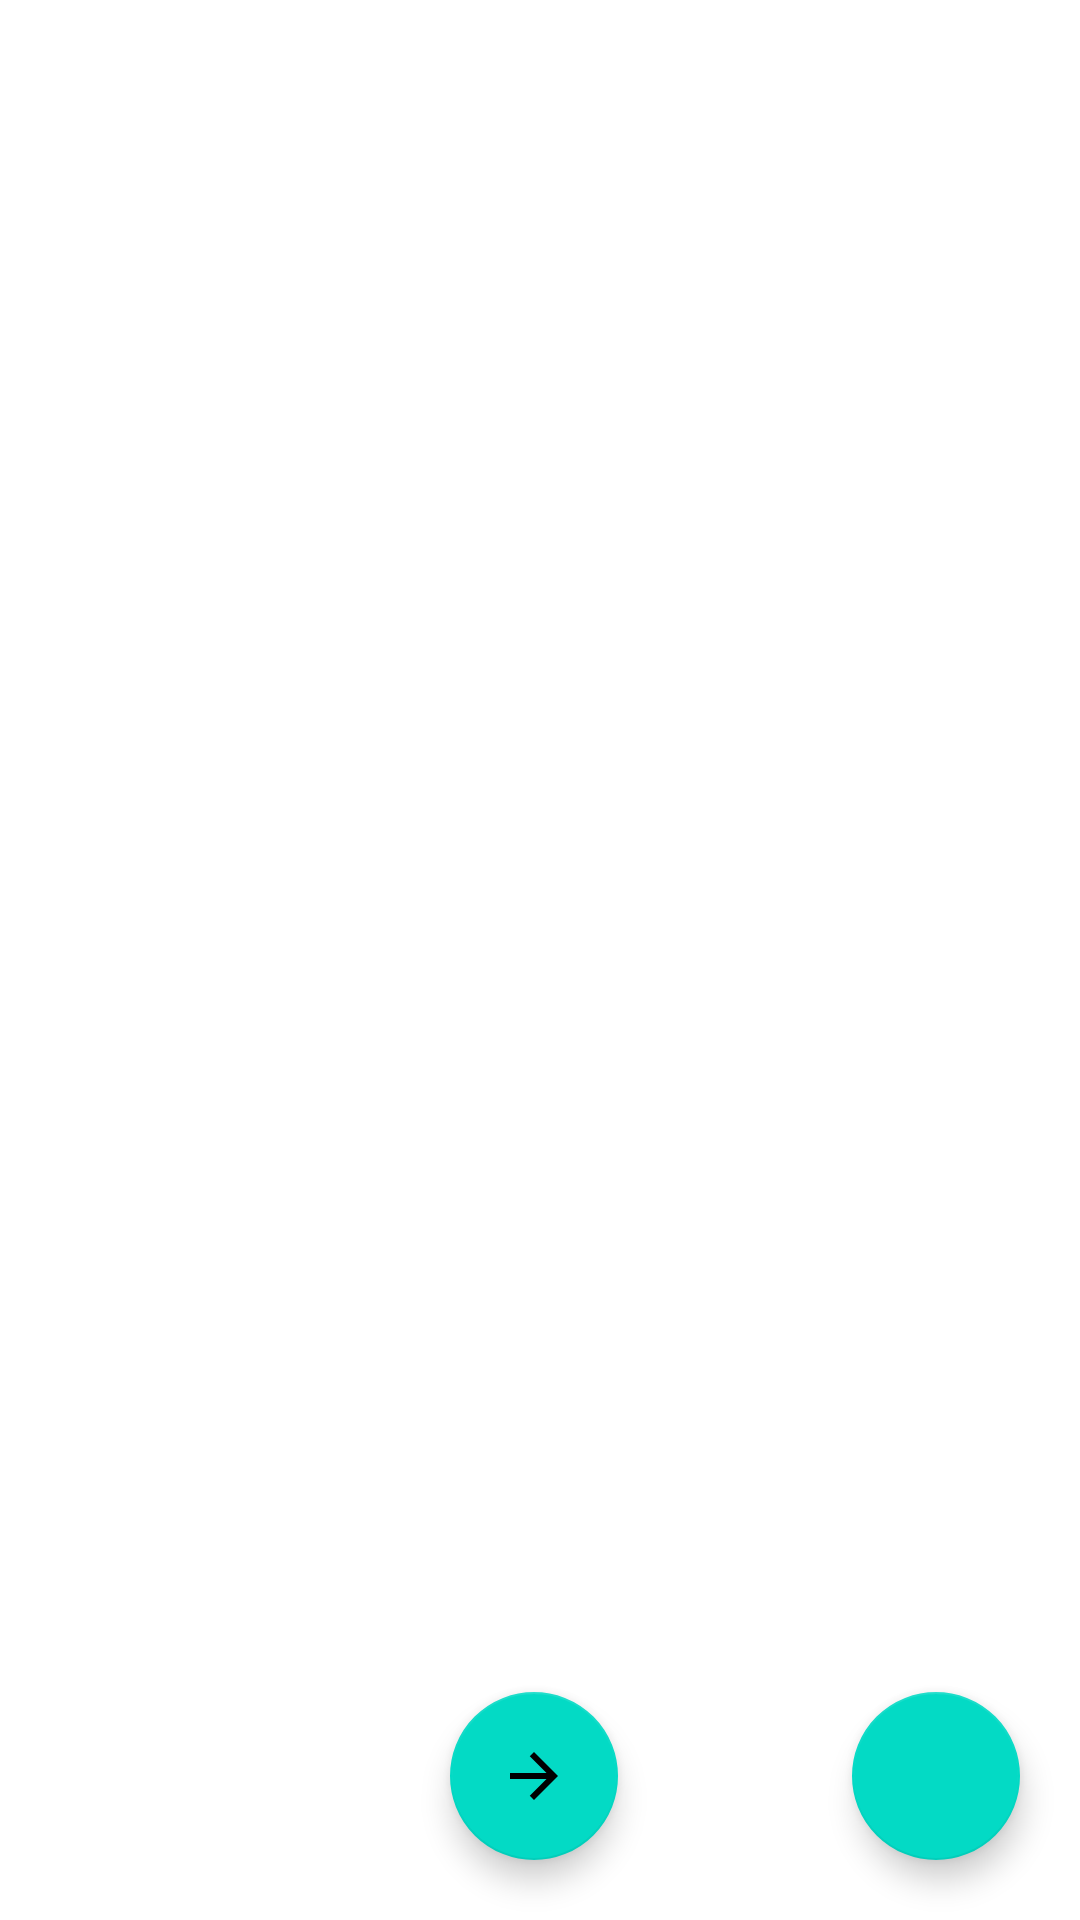

Named icons in this screenshot (1080 x 1920) and their centers, point (x, y):
arrow forward: point (534, 1776)
